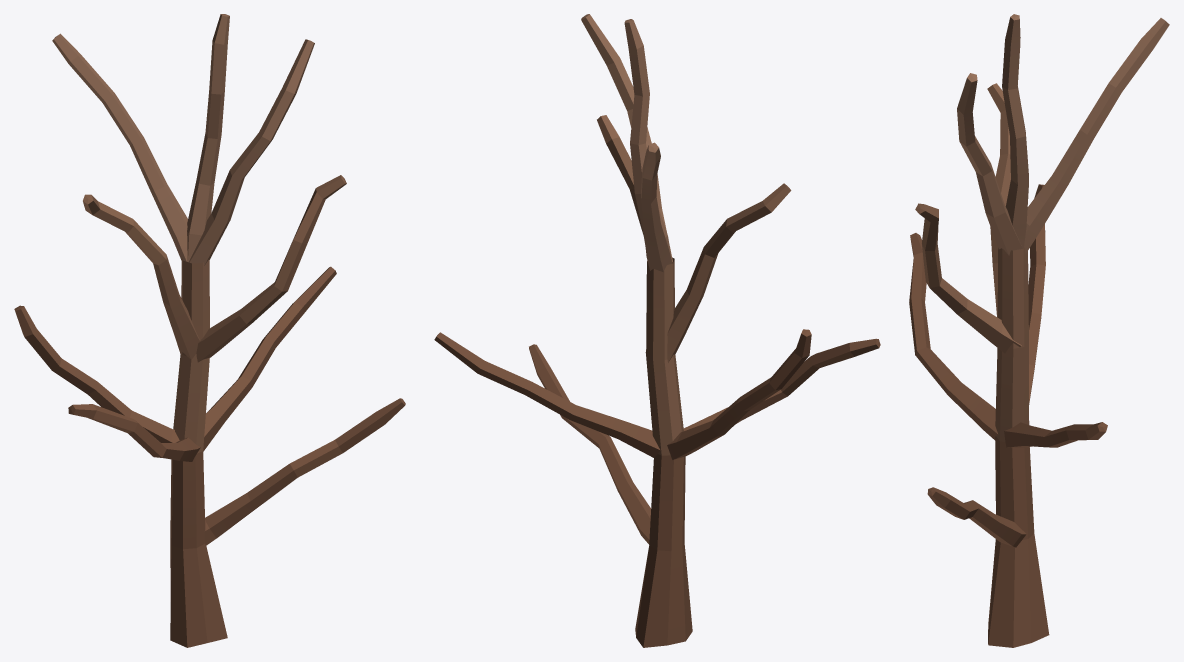
Rendered from naked_tree_5.fbx.
The picture shows the model from 3 angles, left to right: view 1: azimuth 30°, elevation 25°; view 2: azimuth 150°, elevation 25°; view 3: azimuth 270°, elevation 25°; orthographic projection. The views are drawn at different scales.
Parts seen in each view (by area): view 1: naked_tree_5; view 2: naked_tree_5; view 3: naked_tree_5.
Boxes of the visible parts, <box> form: naked_tree_5: <box>14,14,405,647</box>; naked_tree_5: <box>434,14,880,647</box>; naked_tree_5: <box>909,14,1169,647</box>.
Bounding box in the file's own units: 415 × 680 × 253.
